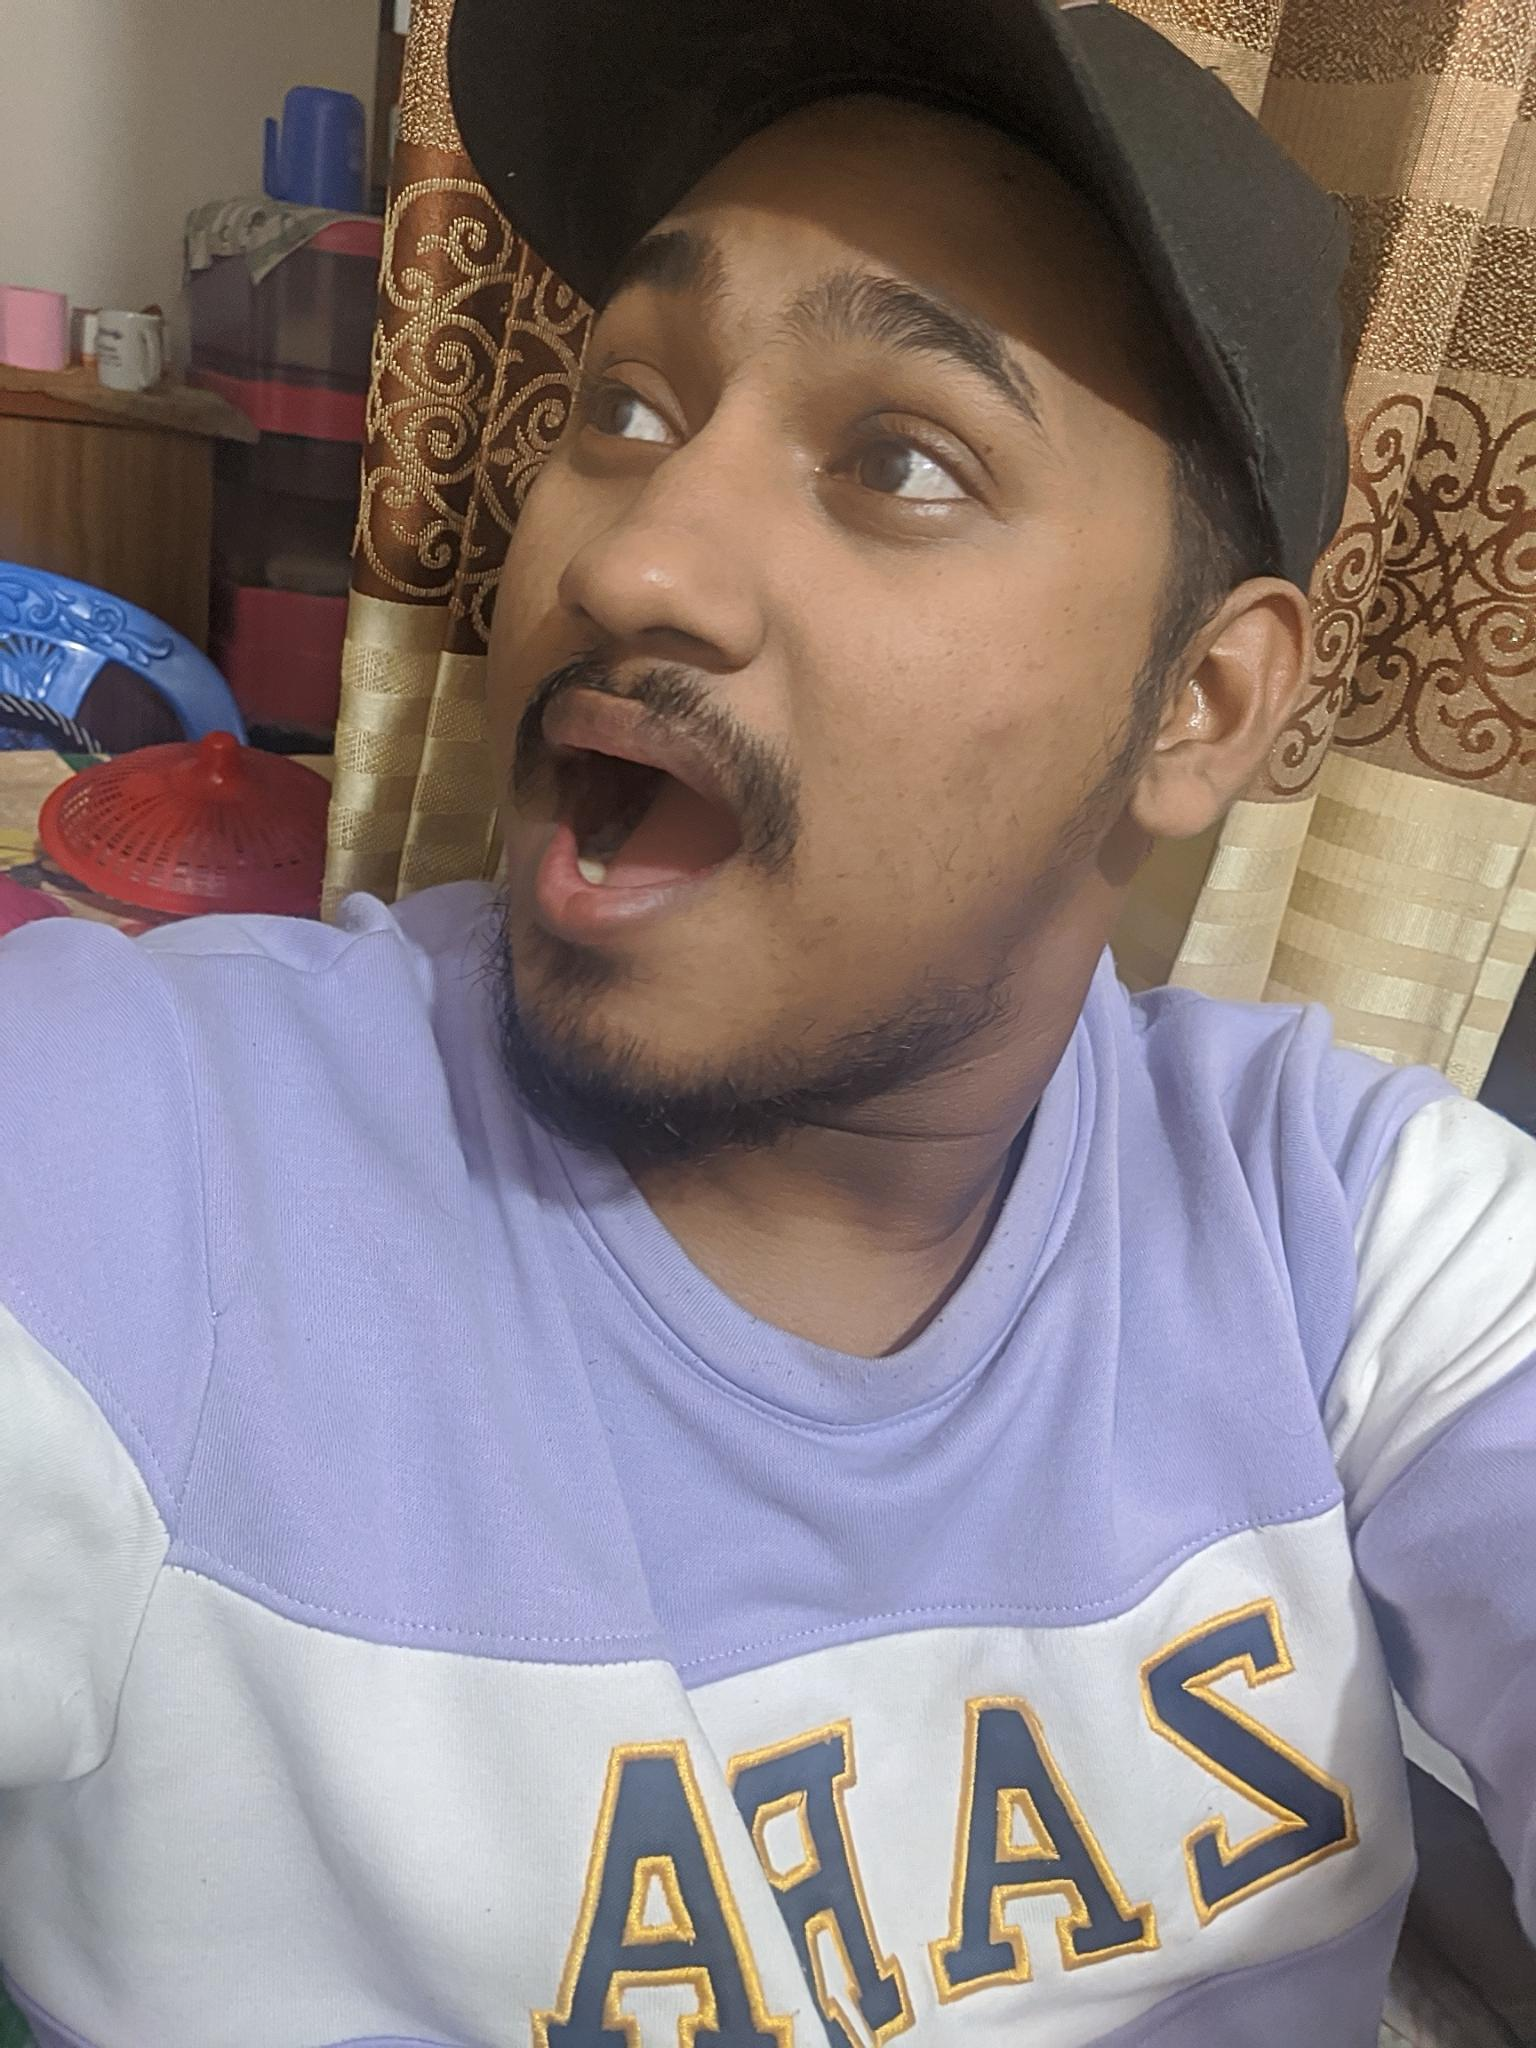Surprise: (400, 156, 1102, 1151)
